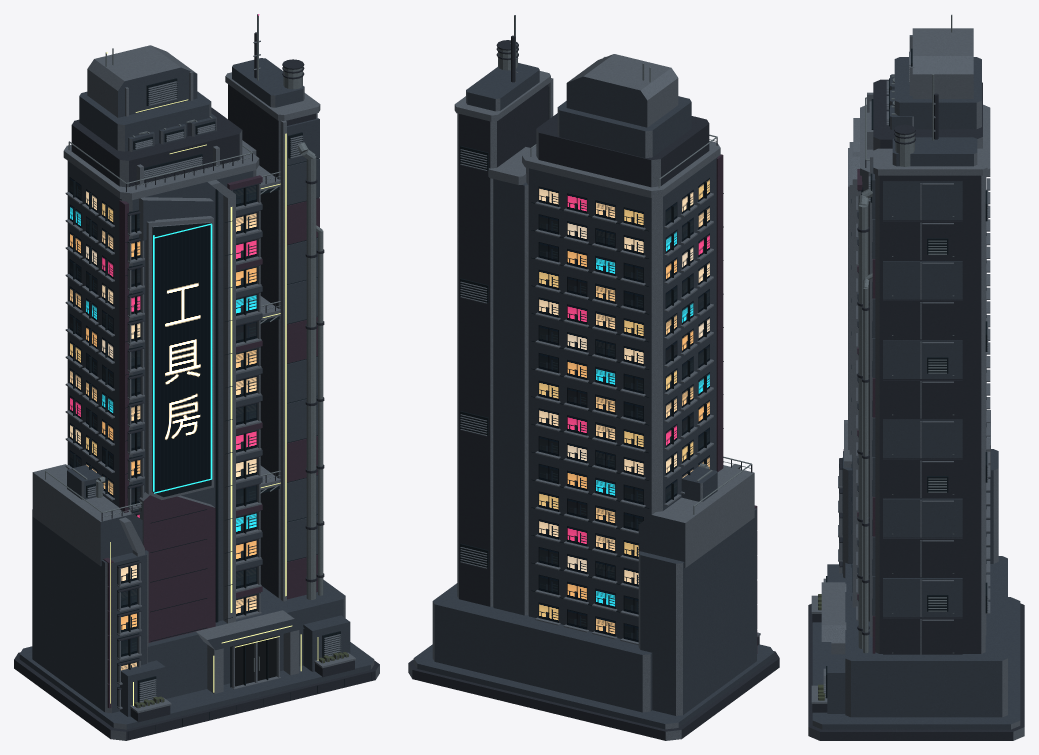
File: tool-room-tower-v1.glb
The picture shows the model from 3 angles, left to right: view 1: azimuth 30°, elevation 25°; view 2: azimuth 150°, elevation 25°; view 3: azimuth 270°, elevation 25°; orthographic projection.
Parts seen in each view (by area): view 1: main_tower, service_spine_and_courtyard, annex_and_roof_equipment, foundation_and_entry, vertical_led; view 2: main_tower, service_spine_and_courtyard, annex_and_roof_equipment, foundation_and_entry; view 3: service_spine_and_courtyard, foundation_and_entry, main_tower, annex_and_roof_equipment, vertical_led.
Part boxes in pixels (<box>): main_tower: <box>63,45,262,642</box>; service_spine_and_courtyard: <box>225,14,324,601</box>; annex_and_roof_equipment: <box>32,48,252,713</box>; foundation_and_entry: <box>14,579,379,740</box>; vertical_led: <box>145,216,213,499</box>; main_tower: <box>522,54,723,645</box>; service_spine_and_courtyard: <box>454,15,553,615</box>; annex_and_roof_equipment: <box>530,63,757,715</box>; foundation_and_entry: <box>408,583,779,740</box>; service_spine_and_courtyard: <box>857,74,988,655</box>; foundation_and_entry: <box>808,556,1024,740</box>; main_tower: <box>851,28,990,621</box>; annex_and_roof_equipment: <box>838,14,998,577</box>; vertical_led: <box>848,142,853,454</box>.
Bounding box in the file's own units: 12.96 × 29.17 × 9.01.
2 materials, 2 textured.
